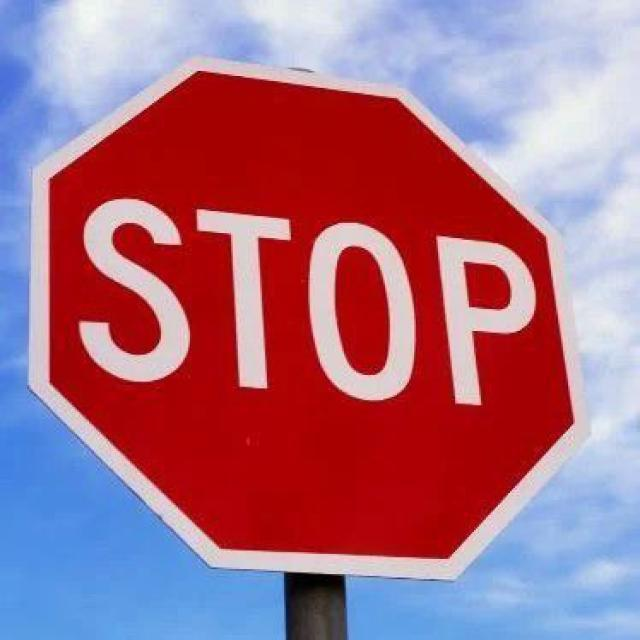stop: (38, 50, 591, 580)
